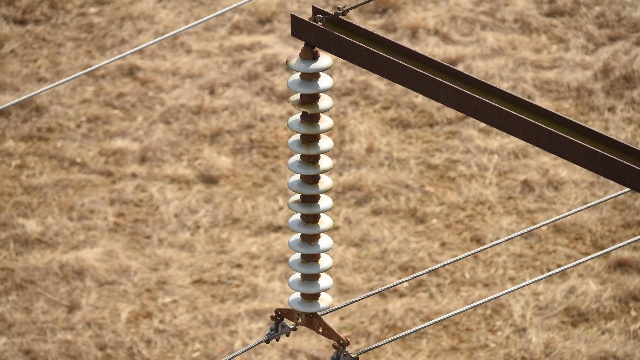broken_local: (285, 95, 311, 114)
insulator_unspecified: (285, 50, 335, 312)
